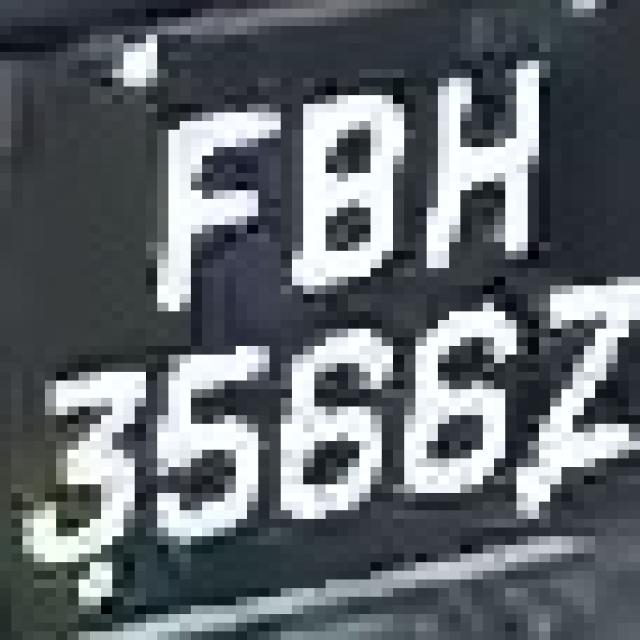3: (0, 328, 168, 605)
5: (146, 329, 269, 562)
6: (348, 294, 517, 528), (258, 286, 382, 536)
B: (247, 60, 404, 302)
F: (134, 95, 280, 320)
H: (393, 35, 561, 276)
Z: (505, 259, 618, 519)
